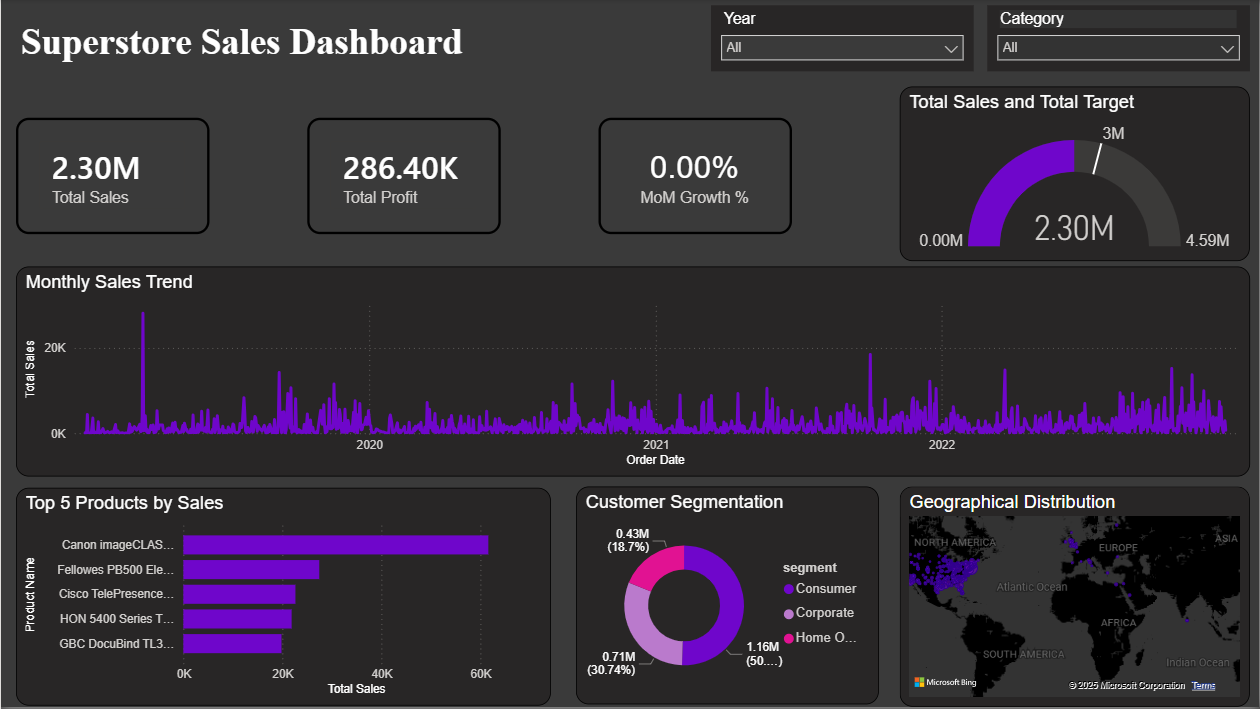

This screenshot's page, from the dashboard's own definition file:
{"tool":"powerbi","page":{"name":"Page 1","canvas":[1280,720],"ordinal":0},"visuals":[{"type":"cardVisual","fields":{"Data":["Key Measures.Total Sales"]},"box":[15.3,120.8,197.1,118.2],"z":0},{"type":"cardVisual","fields":{"Data":["Key Measures.Total Profit"]},"box":[311.5,120.8,197.1,118.2],"z":1000},{"type":"lineChart","title":"Monthly Sales Trend","fields":{"Category":["public sales_data.Order Date.Variation.Date Hierarchy.Year"],"Y":["Key Measures.Total Sales"]},"box":[15.3,272.1,1254.8,213.6],"z":2000},{"type":"map","title":"Geographical Distribution","fields":{"Size":["Key Measures.Total Sales"],"Category":["public sales_data.city"]},"box":[914.1,495.8,356,223.8],"z":3000},{"type":"clusteredBarChart","title":"Top 5 Products by Sales","fields":{"Category":["public sales_data.Product Name"],"Y":["Key Measures.Total Sales"]},"box":[15.7,497.1,544.1,222],"z":4000},{"type":"slicer","fields":{"Values":["public sales_data.category"]},"box":[1003.1,6.4,267,67.4],"z":5000},{"type":"textbox","box":[15.3,16.5,472.9,57.2],"z":6000},{"type":"card","fields":{"Values":["Key Measures.MoM Growth %"]},"box":[607.7,120.8,197.1,118.2],"z":7000},{"type":"slicer","fields":{"Values":["Date Table.Year"]},"box":[722.1,6.4,267,67.4],"z":8000},{"type":"gauge","fields":{"Y":["Key Measures.Total Sales"],"TargetValue":["targets.Total Target"]},"box":[914.1,89,356,178],"z":9000},{"type":"donutChart","title":"Customer Segmentation","fields":{"Category":["public sales_data.segment"],"Y":["Key Measures.Total Sales"]},"box":[585.1,495.8,307.6,222],"z":10000}]}

Visuals, with their boxes in screenshot pixels (x1, y1, x2, y2), scaled from the page's 1280x720 canvas onto the 1260x709 screenshot:
cardVisual - Key Measures.Total Sales: (left=15, top=119, right=209, bottom=235)
cardVisual - Key Measures.Total Profit: (left=307, top=119, right=501, bottom=235)
"Monthly Sales Trend" lineChart: (left=15, top=268, right=1250, bottom=478)
"Geographical Distribution" map: (left=900, top=488, right=1250, bottom=708)
"Top 5 Products by Sales" clusteredBarChart: (left=15, top=490, right=551, bottom=708)
slicer - public sales_data.category: (left=987, top=6, right=1250, bottom=73)
textbox: (left=15, top=16, right=481, bottom=73)
card - Key Measures.MoM Growth %: (left=598, top=119, right=792, bottom=235)
slicer - Date Table.Year: (left=711, top=6, right=974, bottom=73)
gauge - Key Measures.Total Sales x targets.Total Target: (left=900, top=88, right=1250, bottom=263)
"Customer Segmentation" donutChart: (left=576, top=488, right=879, bottom=707)
